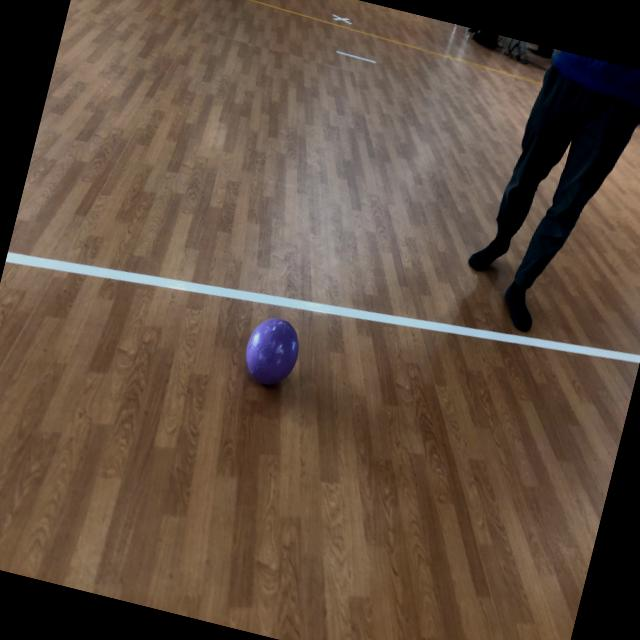purple_ball: (239, 312, 305, 388)
